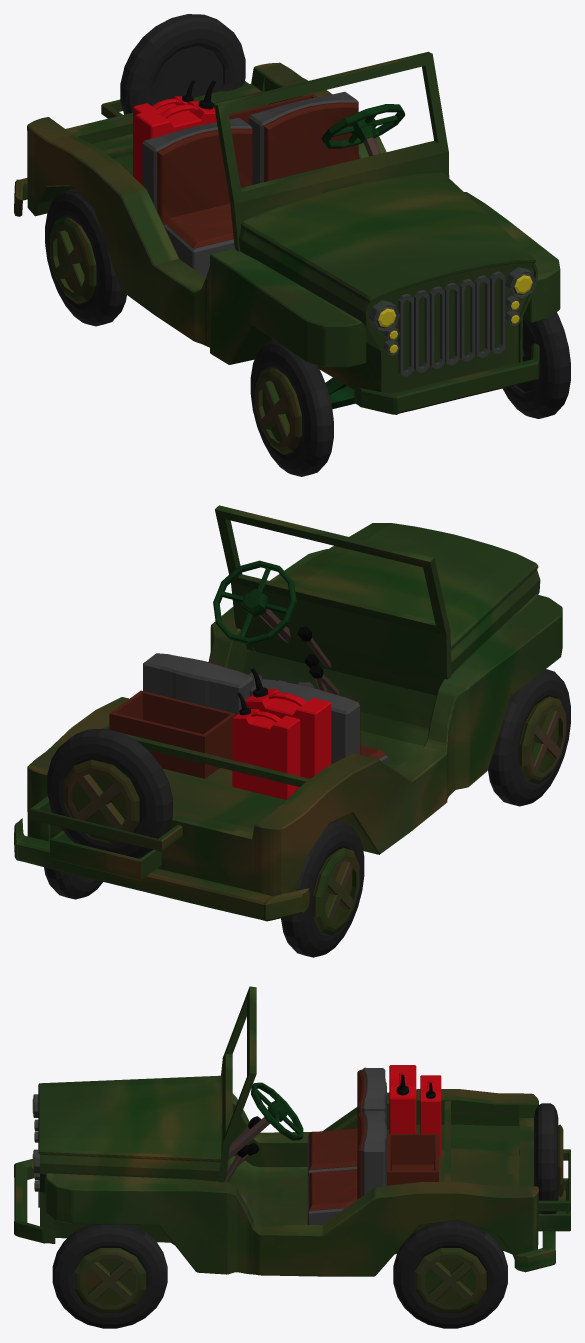
File: Jeep.fbx
3 renders of one model, top to bottom at view 1: azimuth 30°, elevation 25°; view 2: azimuth 150°, elevation 25°; view 3: azimuth 270°, elevation 25°, orthographic. The views are drawn at different scales.
Parts seen in each view (by area): view 1: Carroceria, Peneus, Bancos.002, ParaChoque, Calotas, Bancos, Bagagem.001, Controles.001, Farol, Peneus.001; view 2: Carroceria, Peneus, Calotas, Bagagem.001, Bancos, Bagagem.002, Controles.001, Controles; view 3: Carroceria, Peneus, Calotas, Bancos.002, Bancos, Bagagem.001, Bagagem.002, Controles.001, Controles, ParaChoque.
Boxes of the visible parts, x1,y1,x2,y2 form: Carroceria: (14, 51, 560, 414); Peneus: (45, 14, 570, 476); Bancos.002: (157, 102, 358, 248); ParaChoque: (369, 267, 536, 376); Calotas: (49, 217, 301, 454); Bancos: (142, 91, 358, 277); Bagagem.001: (133, 96, 216, 184); Controles.001: (321, 104, 405, 148); Farol: (378, 275, 532, 353); Peneus.001: (325, 349, 524, 409); Carroceria: (14, 505, 562, 921); Peneus: (44, 669, 570, 957); Calotas: (63, 696, 566, 935); Bagagem.001: (232, 689, 331, 799); Bancos: (143, 653, 387, 764); Bagagem.002: (109, 690, 236, 778); Controles.001: (213, 560, 296, 644); Controles: (259, 609, 339, 695); Carroceria: (14, 986, 570, 1276); Peneus: (52, 1103, 558, 1328); Calotas: (74, 1124, 563, 1313); Bancos.002: (309, 1069, 365, 1210); Bancos: (307, 1067, 386, 1224); Bagagem.001: (389, 1065, 441, 1157); Bagagem.002: (387, 1134, 438, 1185); Controles.001: (251, 1082, 303, 1140); Controles: (225, 1117, 270, 1181); ParaChoque: (33, 1094, 39, 1207).
Size of the model in its own units: 64.14 by 64.04 by 130.
